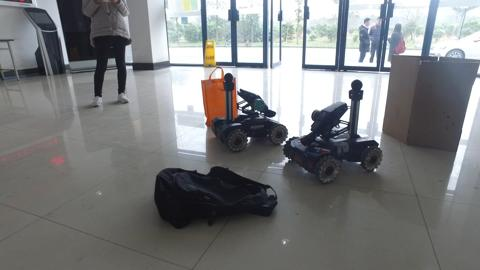bag: (152, 164, 278, 228)
box: (387, 54, 471, 151)
chariot: (280, 83, 384, 185), (215, 75, 285, 150)
